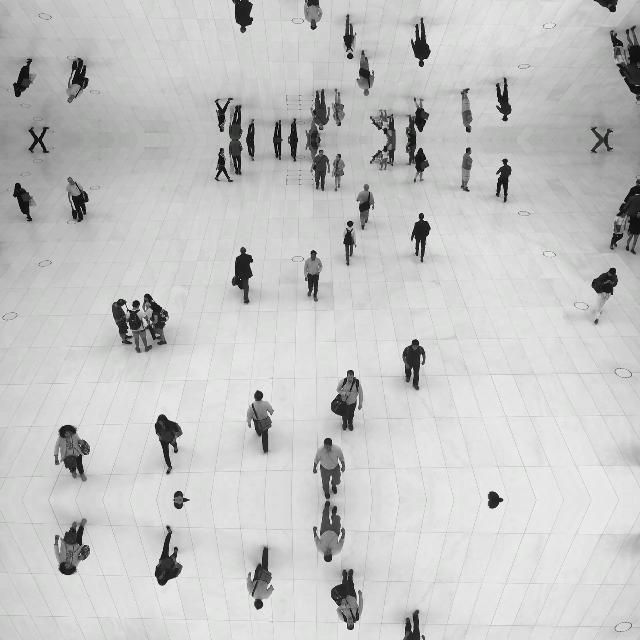person: (312, 437, 346, 499), (312, 501, 346, 563), (54, 424, 90, 482), (54, 518, 90, 576), (331, 369, 364, 431), (331, 569, 364, 631), (246, 390, 274, 454), (246, 546, 274, 610), (154, 414, 183, 474), (154, 526, 183, 586), (592, 267, 618, 325), (126, 300, 152, 354), (402, 338, 426, 390), (64, 176, 88, 222), (64, 58, 88, 104), (234, 247, 253, 305), (111, 298, 133, 346), (411, 213, 432, 263), (411, 17, 432, 67), (303, 250, 323, 302), (609, 205, 631, 251), (609, 29, 631, 75), (356, 183, 376, 230), (356, 49, 376, 96), (150, 300, 170, 346), (310, 149, 330, 191), (310, 89, 330, 131), (13, 182, 33, 222), (13, 58, 33, 98), (402, 610, 426, 640), (496, 158, 512, 202), (624, 210, 640, 254), (496, 78, 512, 122), (624, 26, 640, 70), (622, 179, 640, 217), (622, 63, 640, 101), (142, 293, 158, 335), (214, 148, 233, 182), (214, 98, 233, 132), (343, 220, 357, 266), (343, 14, 357, 60), (234, 0, 253, 33), (412, 148, 430, 182), (412, 98, 430, 132), (303, 0, 323, 30), (228, 140, 244, 176), (228, 104, 244, 140), (461, 148, 474, 192), (461, 88, 474, 132), (331, 154, 345, 192), (331, 88, 345, 126), (591, 0, 618, 13), (306, 140, 320, 164), (590, 140, 614, 154), (306, 116, 320, 140), (590, 126, 614, 140), (405, 140, 417, 166), (405, 114, 417, 140), (28, 140, 50, 154), (28, 126, 50, 140), (378, 145, 389, 171), (378, 109, 389, 135), (386, 140, 396, 167), (288, 140, 300, 162), (288, 118, 300, 140), (386, 114, 396, 140), (246, 140, 256, 162), (246, 118, 256, 140), (272, 140, 282, 160), (272, 120, 282, 140), (172, 490, 190, 500), (172, 500, 190, 510), (488, 492, 504, 501), (488, 499, 504, 508)
